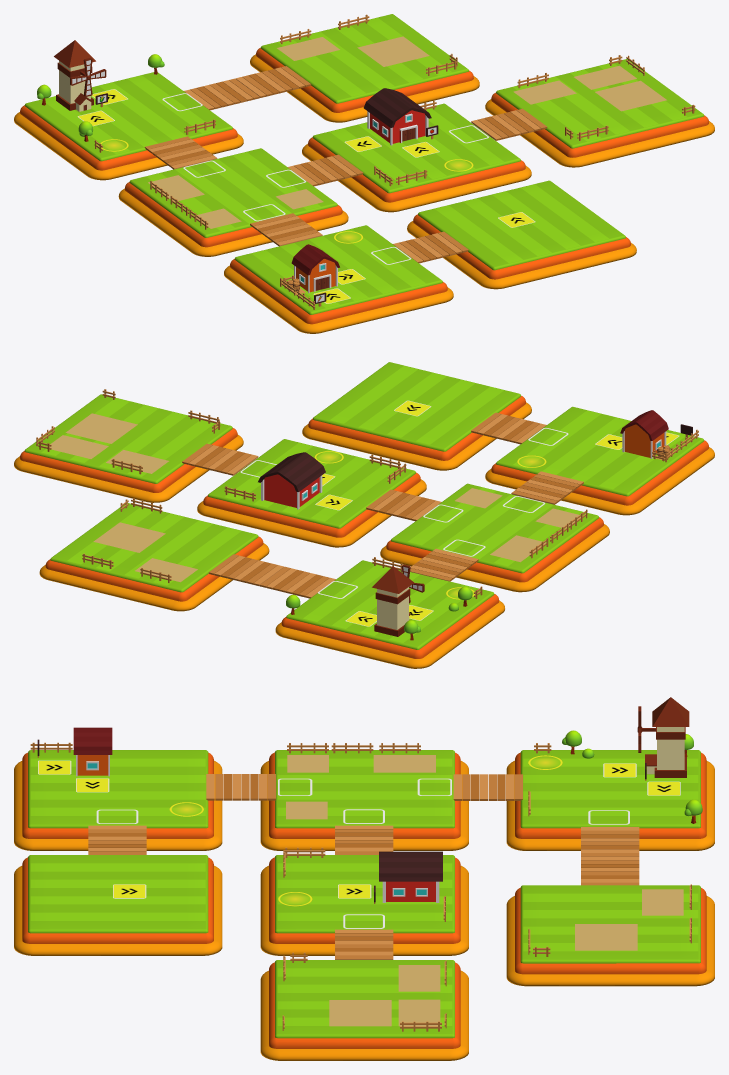
File: island.glb
3 renders of one model, top to bottom at view 1: azimuth 30°, elevation 25°; view 2: azimuth 150°, elevation 25°; view 3: azimuth 270°, elevation 25°, orthographic. The views are drawn at different scales.
Visible parts, largest first — view 1: Map7.Island, Map6.Island, Map1.Island, Map3.Island, Map4.Island, Map2.Island, Map5.Island, Map2.Bridge, Map4.Barn, Map6.Barn, Map1.Windmill, Map5.Bridge (+13 smaller); view 2: Map7.Island, Map2.Island, Map6.Island, Map3.Island, Map1.Island, Map5.Island, Map4.Island, Map2.Bridge, Map4.Barn, Map1.Windmill, Map6.Barn, Map5.Bridge (+12 smaller); view 3: Map7.Island, Map2.Island, Map6.Island, Map5.Island, Map1.Island, Map3.Island, Map4.Island, Map2.Bridge, Map4.Barn, Map1.Windmill, Map6.Bridge, Map1.Bridge (+12 smaller).
Boxes of the visible parts, x1,y1,x2,y2 form: Map7.Island: [407, 180, 636, 289]; Map6.Island: [224, 225, 453, 333]; Map1.Island: [14, 72, 243, 180]; Map3.Island: [118, 148, 348, 256]; Map4.Island: [302, 103, 531, 212]; Map2.Island: [250, 14, 479, 122]; Map5.Island: [485, 59, 714, 167]; Map2.Bridge: [184, 66, 310, 110]; Map4.Barn: [363, 88, 431, 145]; Map6.Barn: [280, 244, 339, 295]; Map1.Windmill: [54, 40, 95, 111]; Map5.Bridge: [471, 108, 547, 140]; Map7.Island: [302, 362, 531, 470]; Map2.Island: [39, 503, 269, 611]; Map6.Island: [485, 406, 714, 515]; Map3.Island: [380, 483, 609, 592]; Map1.Island: [275, 560, 504, 668]; Map5.Island: [14, 394, 243, 502]; Map4.Island: [197, 439, 426, 547]; Map2.Bridge: [209, 554, 335, 598]; Map4.Barn: [258, 452, 325, 509]; Map1.Windmill: [372, 566, 414, 636]; Map6.Barn: [620, 410, 679, 462]; Map5.Bridge: [182, 443, 258, 475]; Map7.Island: [14, 855, 222, 955]; Map2.Island: [506, 885, 714, 986]; Map6.Island: [14, 750, 222, 850]; Map5.Island: [260, 960, 468, 1060]; Map1.Island: [506, 750, 714, 850]; Map3.Island: [260, 750, 468, 850]; Map4.Island: [260, 855, 468, 955]; Map2.Bridge: [581, 827, 639, 885]; Map4.Barn: [379, 851, 442, 902]; Map1.Windmill: [642, 697, 689, 777]; Map6.Bridge: [206, 774, 275, 800]; Map1.Bridge: [453, 774, 522, 800].
Size of what is drawn, in the model's own units: 169 by 24.85 by 168.
5 materials, 5 textured.
